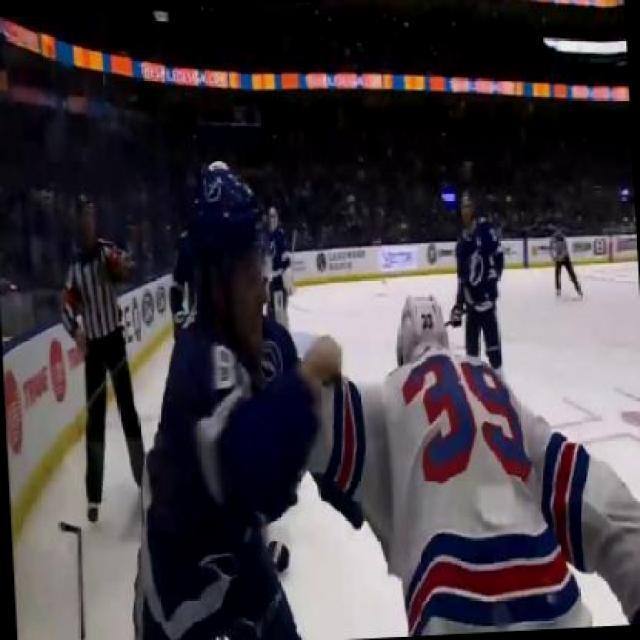fight: (129, 154, 411, 638), (276, 276, 638, 638)
non-fight: (54, 187, 156, 516), (440, 176, 511, 361)
